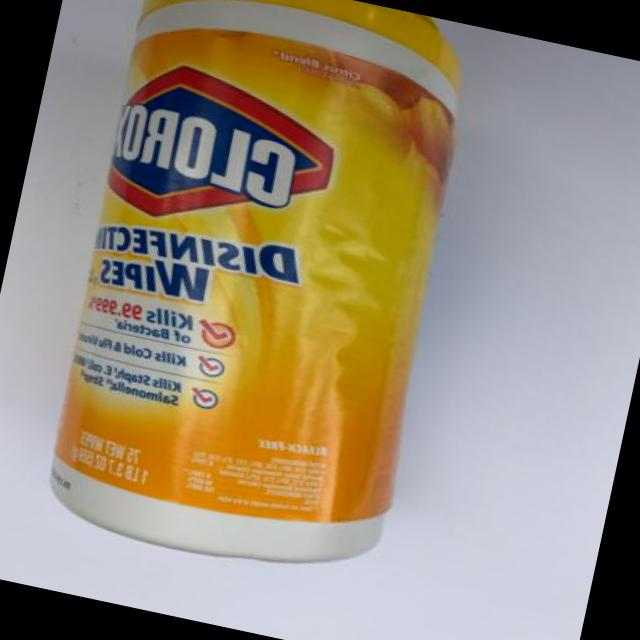plastic: (20, 0, 506, 597)
